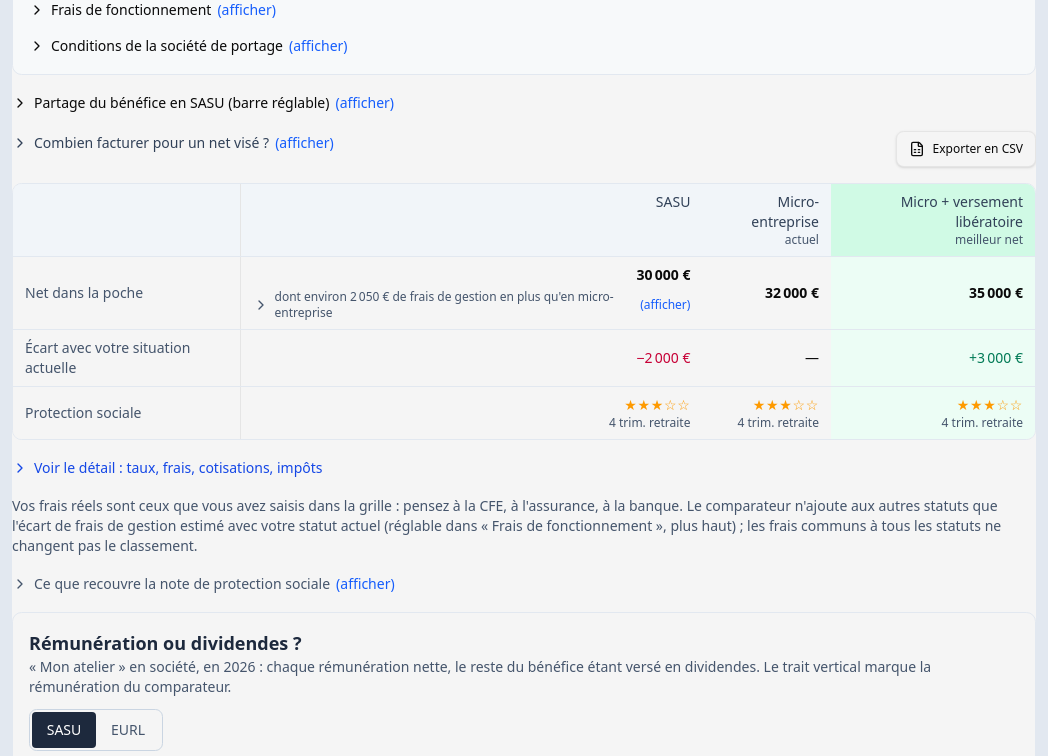
Test: comparateur dans l'affichage « Résumé » › donne le verdict, réduit le tableau au net, à l'écart et à la protection, et montre le reste à la demande
(page scrolled)
Click the button "Voir le détail : taux, frais, cotisations, impôts" at (167,468), box [12,456,322,480]
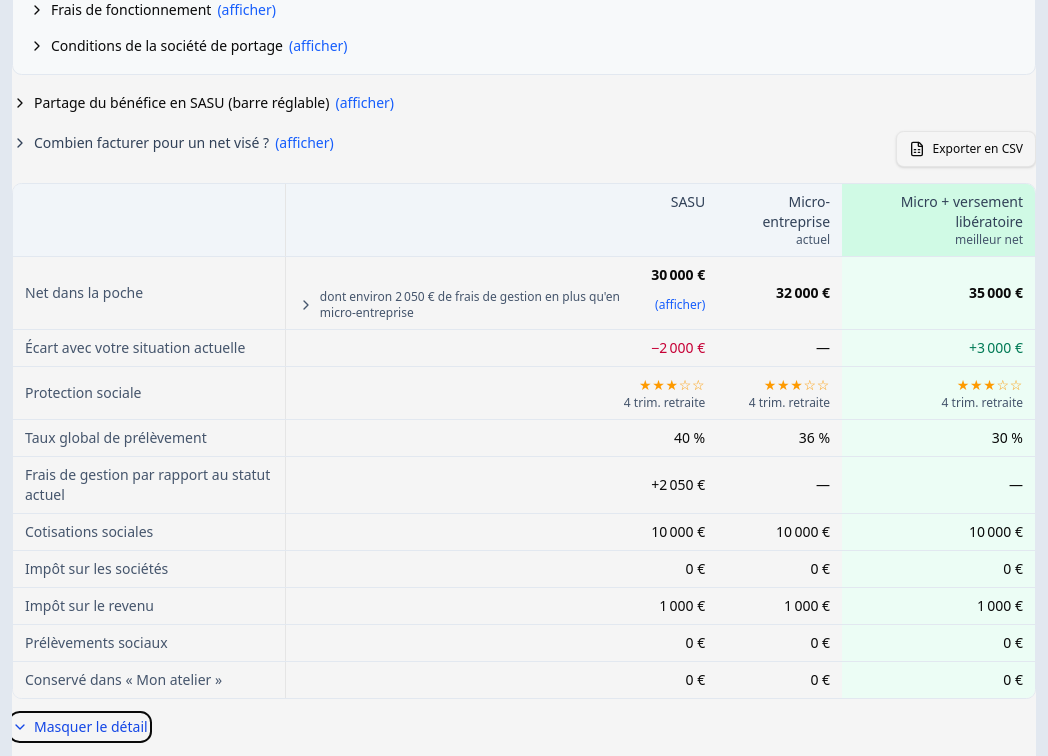
Now the button "Masquer le détail" is expanded, box [12,715,148,739]
